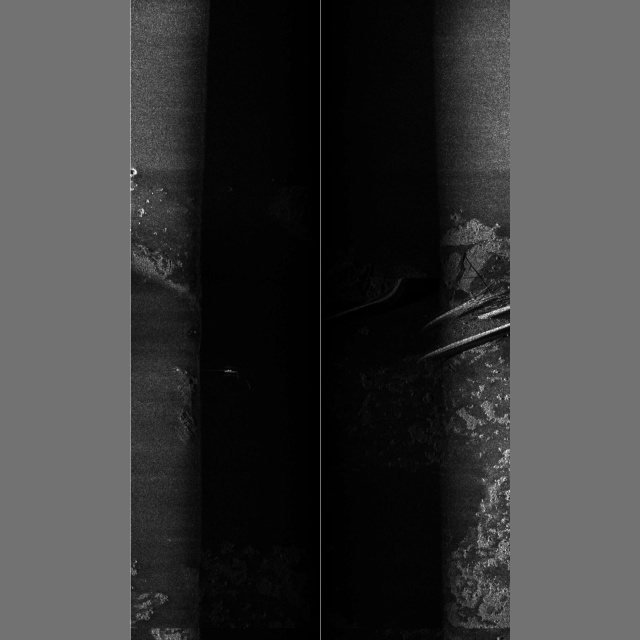Shipwreck: (179, 241, 510, 434)
